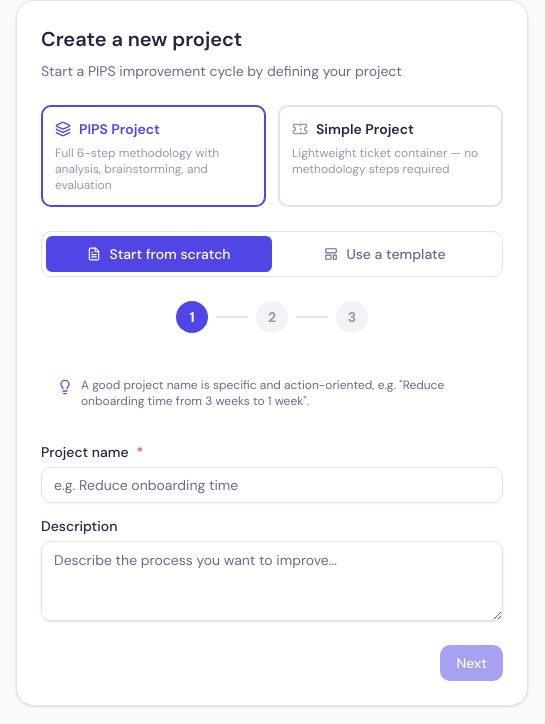
ProjectForm › navigates to step 2 when Next is clicked
Type "Test Project" into the field with test id "project-name-input".
click(272, 485); type("Test Project")  # box [41, 467, 503, 503]
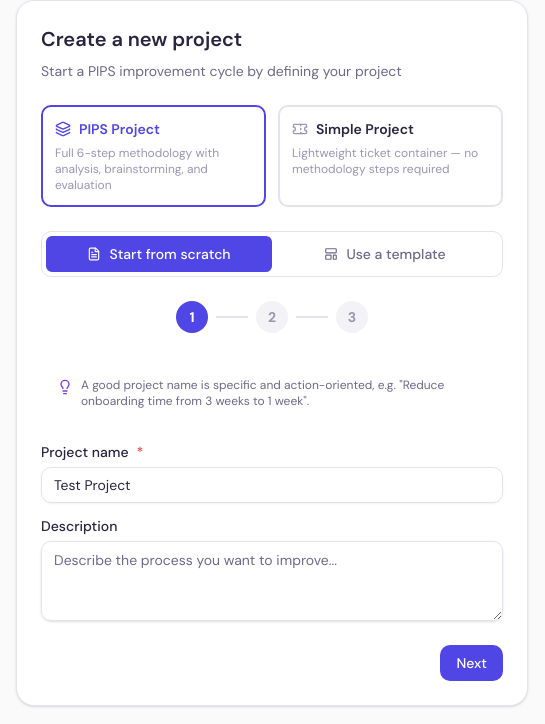
Click the button with test id "step-next-button".
click(472, 663)  # box [440, 645, 503, 681]
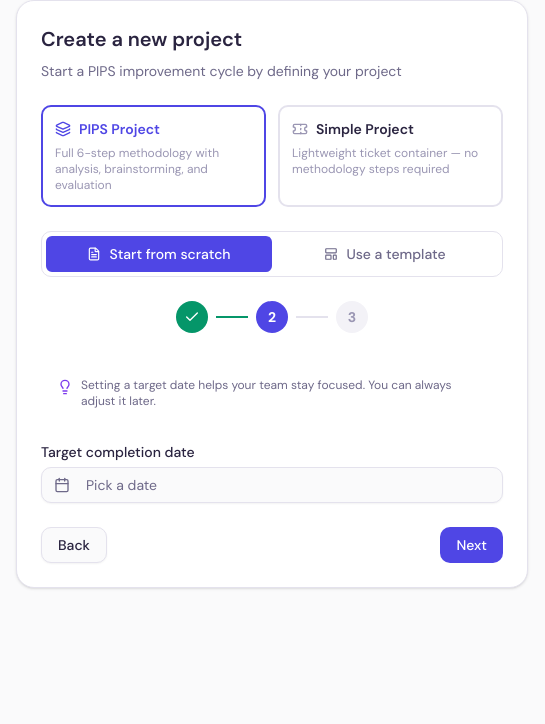
expect the text "Target completion date" is shown: met, box [41, 443, 195, 461]
